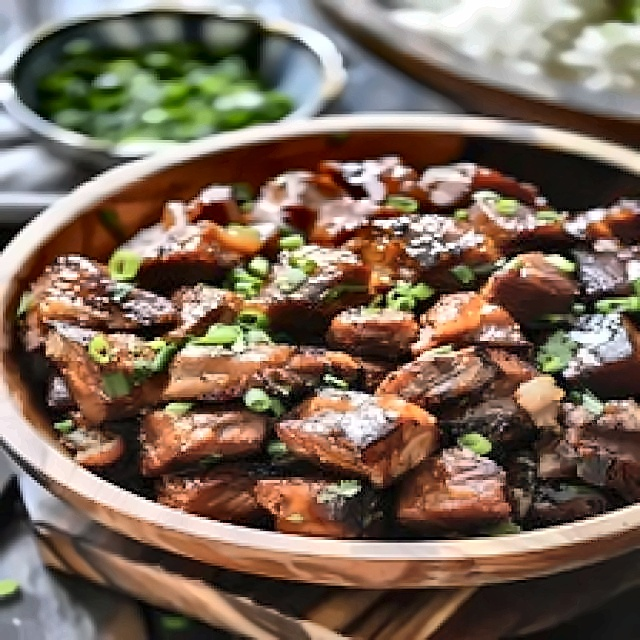rice: (383, 0, 637, 89)
